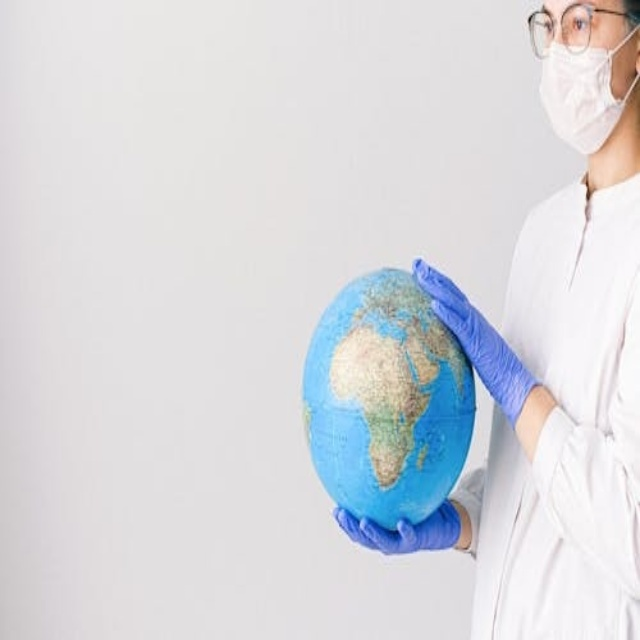Gafas: (525, 4, 635, 57)
Guantes: (411, 257, 541, 428), (334, 496, 462, 556)
Mascara: (539, 14, 639, 155)
